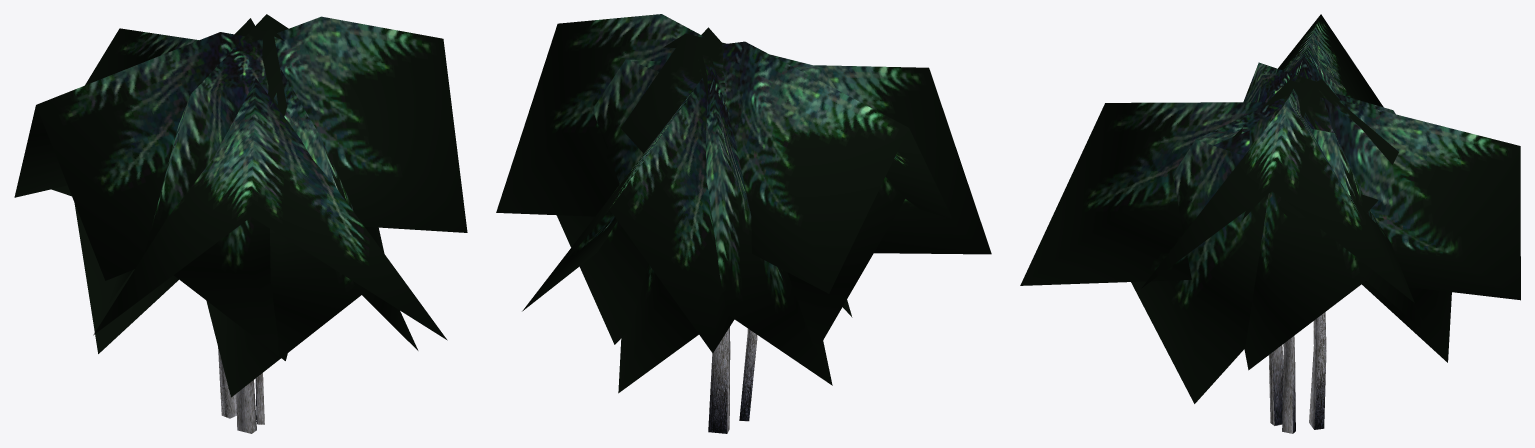
Rendered from fern_tallstalkbig_blue_l1.fbx.
The picture shows the model from 3 angles, left to right: view 1: azimuth 30°, elevation 25°; view 2: azimuth 150°, elevation 25°; view 3: azimuth 270°, elevation 25°; orthographic projection. The views are drawn at different scales.
Visible parts, largest first — view 1: mesh_node; view 2: mesh_node; view 3: mesh_node.
Boxes of the visible parts, left/top/right/bottom form: mesh_node: left=14, top=14, right=467, bottom=433; mesh_node: left=496, top=14, right=991, bottom=433; mesh_node: left=1020, top=14, right=1520, bottom=433.
Size of the model in its own units: 22.51 by 21.42 by 27.04.
